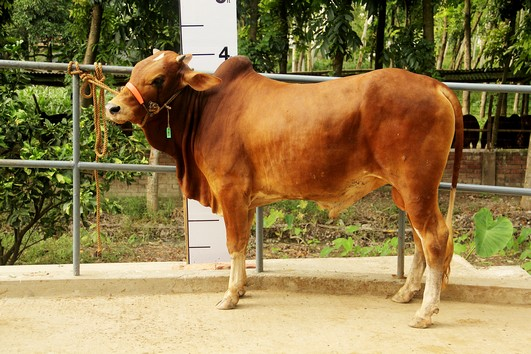cow: (101, 37, 467, 333)
